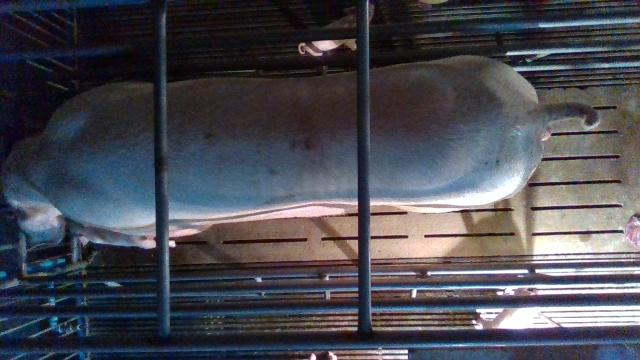piglet: (299, 0, 375, 56)
sow-stand-feed: (3, 52, 602, 236)
